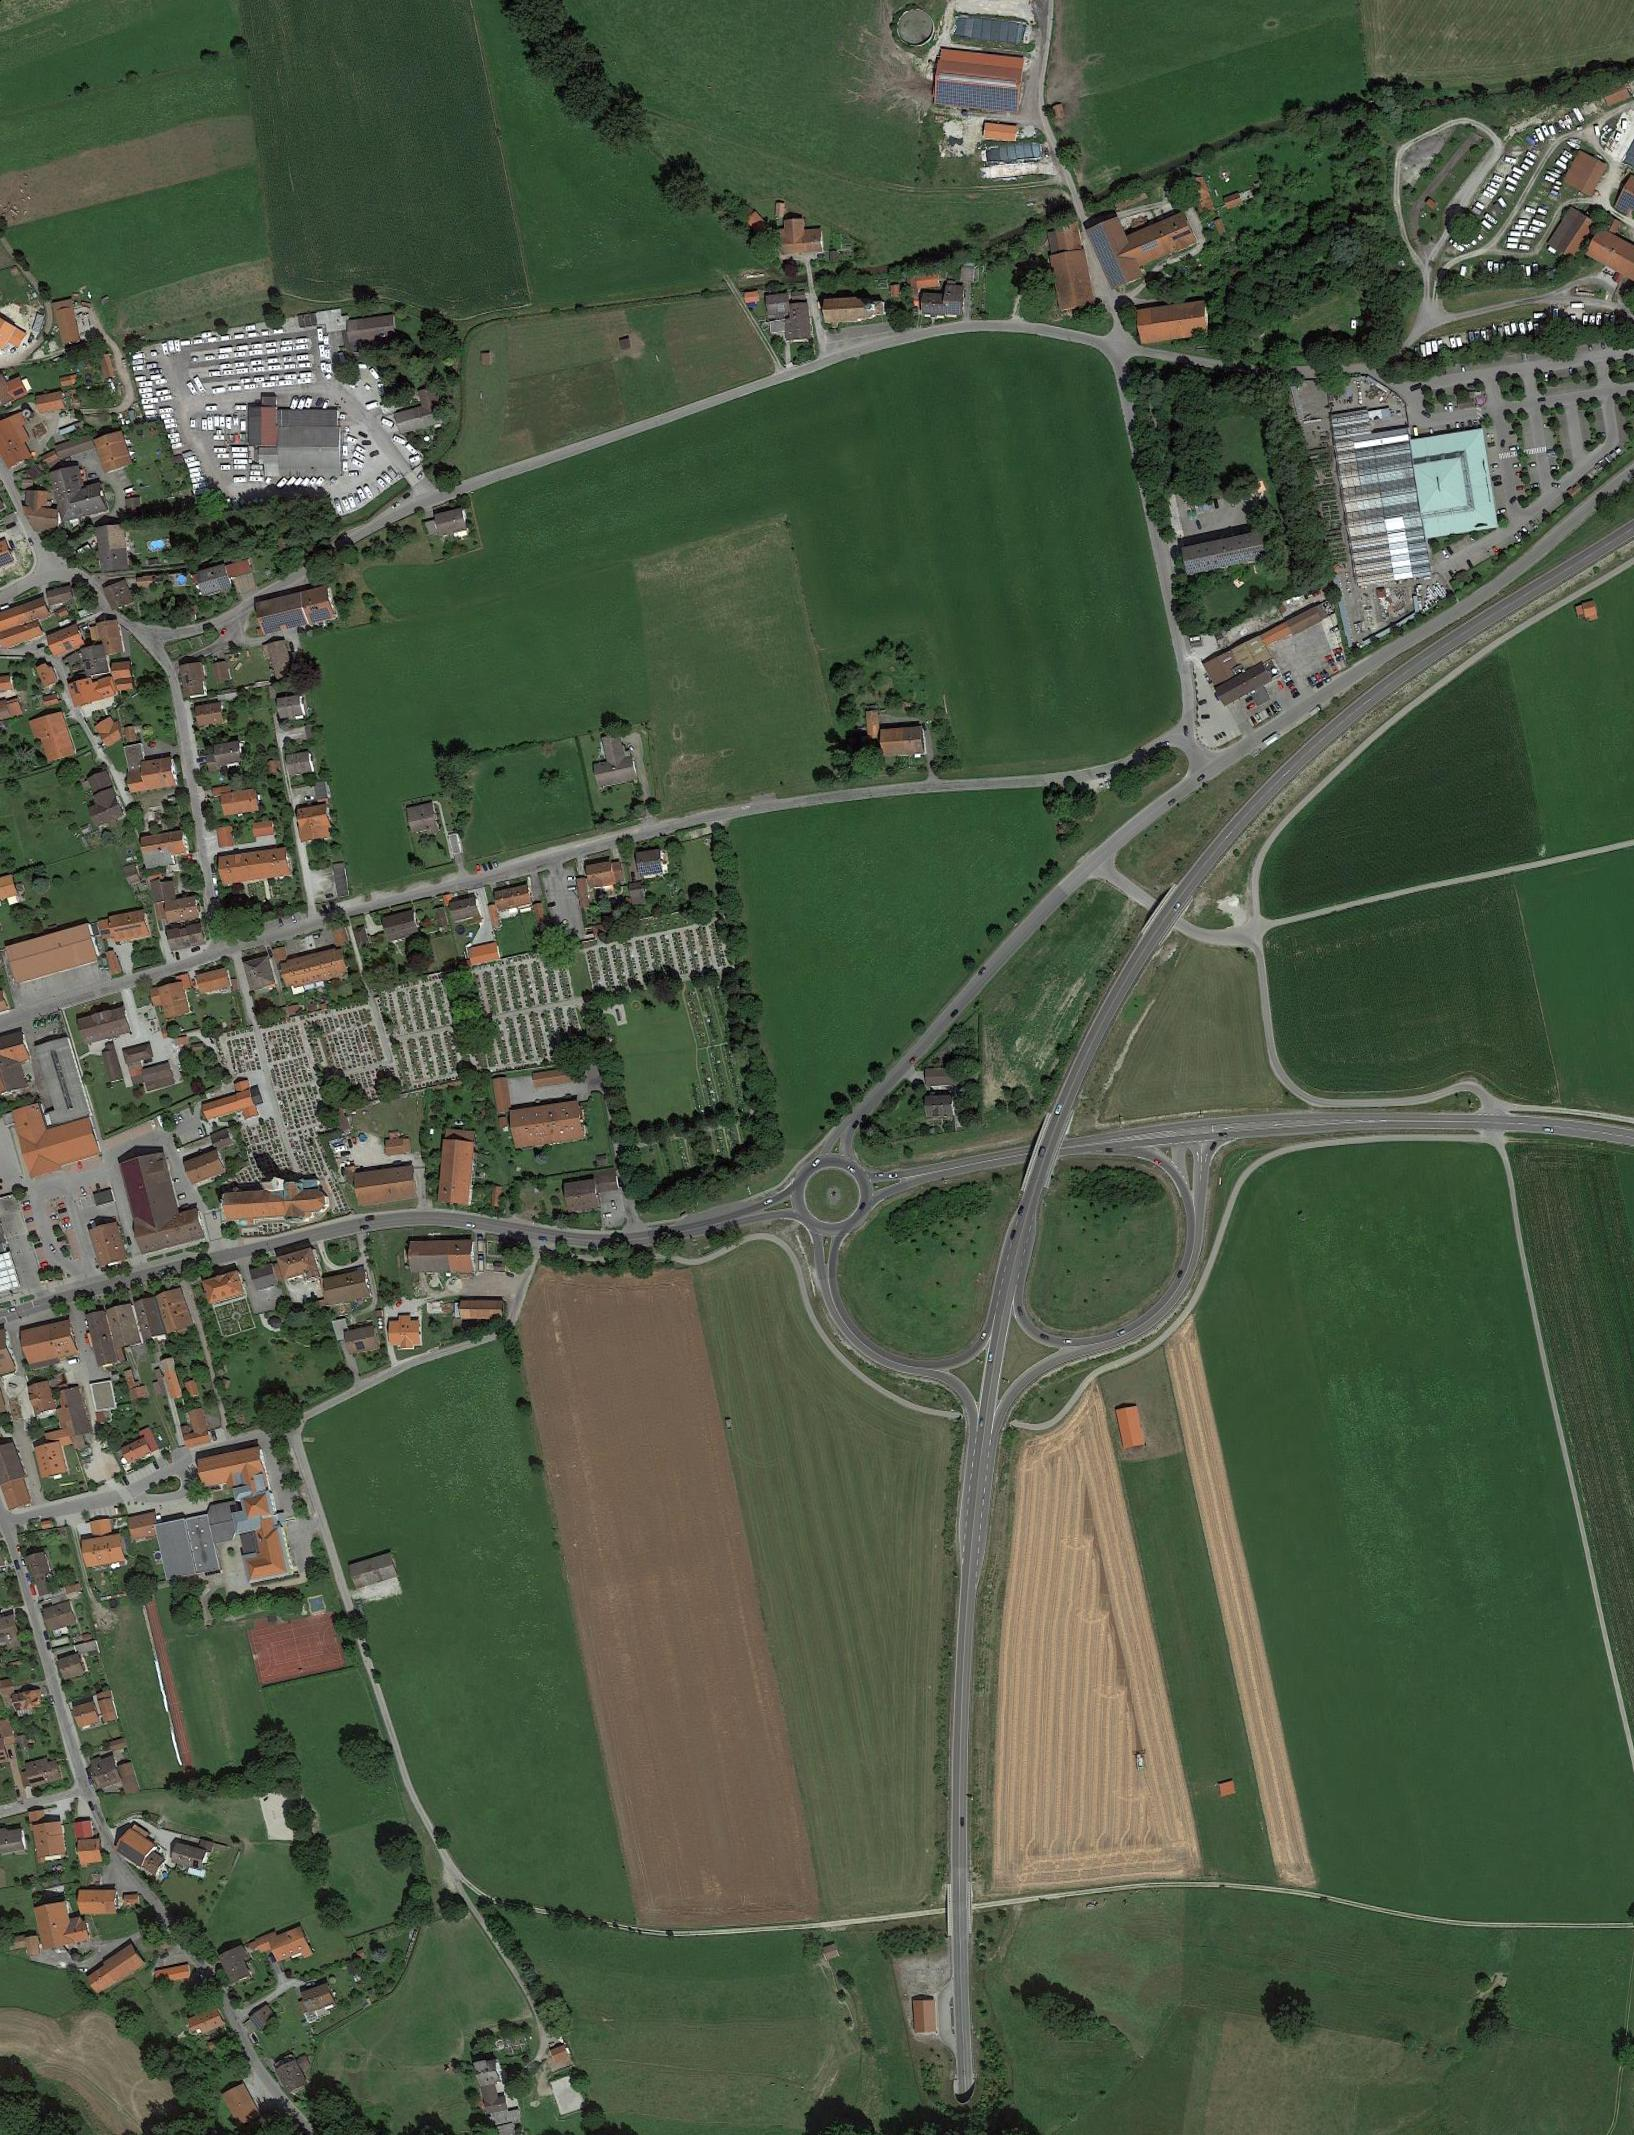ship: (1565, 139, 1582, 151), (1544, 169, 1562, 179), (1565, 114, 1576, 127), (1564, 120, 1573, 132), (1558, 119, 1567, 130), (1569, 137, 1582, 144)
